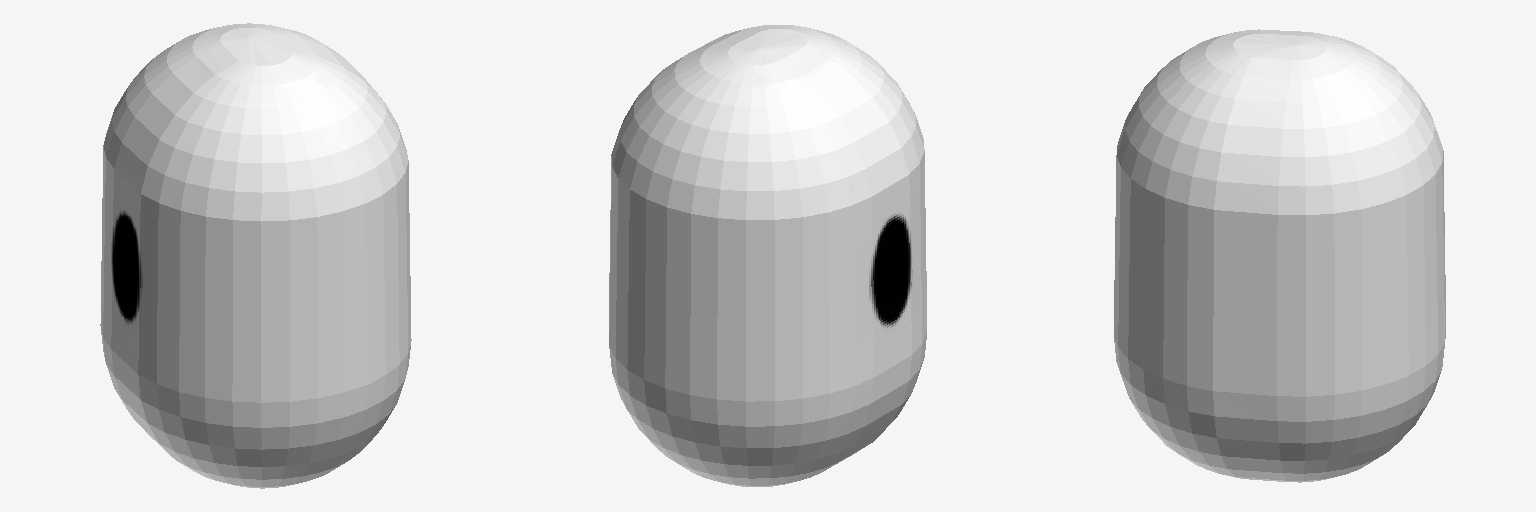
The picture shows the model from 3 angles: view 1: azimuth 30°, elevation 25°; view 2: azimuth 150°, elevation 25°; view 3: azimuth 270°, elevation 25°; orthographic projection.
Visible parts, largest first — view 1: Sphere001; view 2: Sphere001; view 3: Sphere001.
Part boxes in pixels (x1,y1,x2,y2): Sphere001: (100, 23, 411, 488); Sphere001: (609, 25, 926, 486); Sphere001: (1114, 29, 1445, 482).
Size of the model in its own units: 10.15 by 15.7 by 11.18.
1 materials, 1 textured.